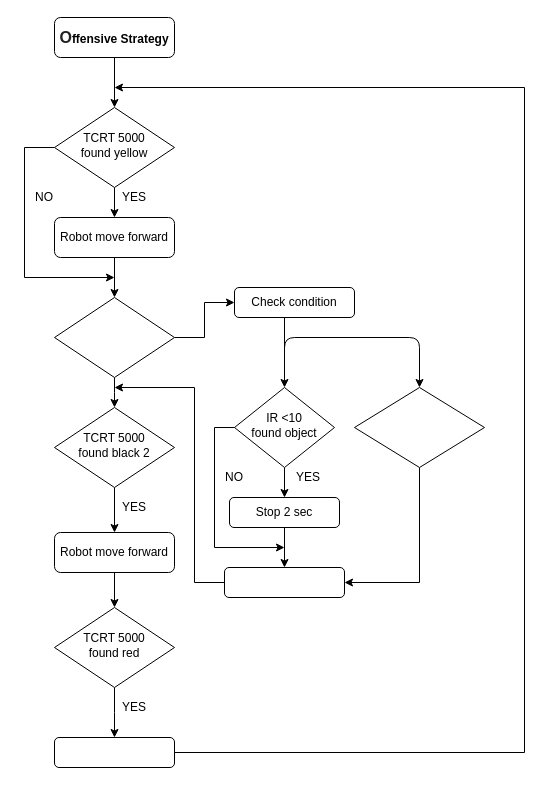
This 550x785 diagram has some shape labels left out. The shapes that lost their labels are listed below. From the top down, each one's centre as x and y in pixels, then its label:
[114,337]: TCRT 5000 found black 1
[419,427]: Ultrasonic <10 found object
[284,582]: Move forward
[114,752]: Reverse
